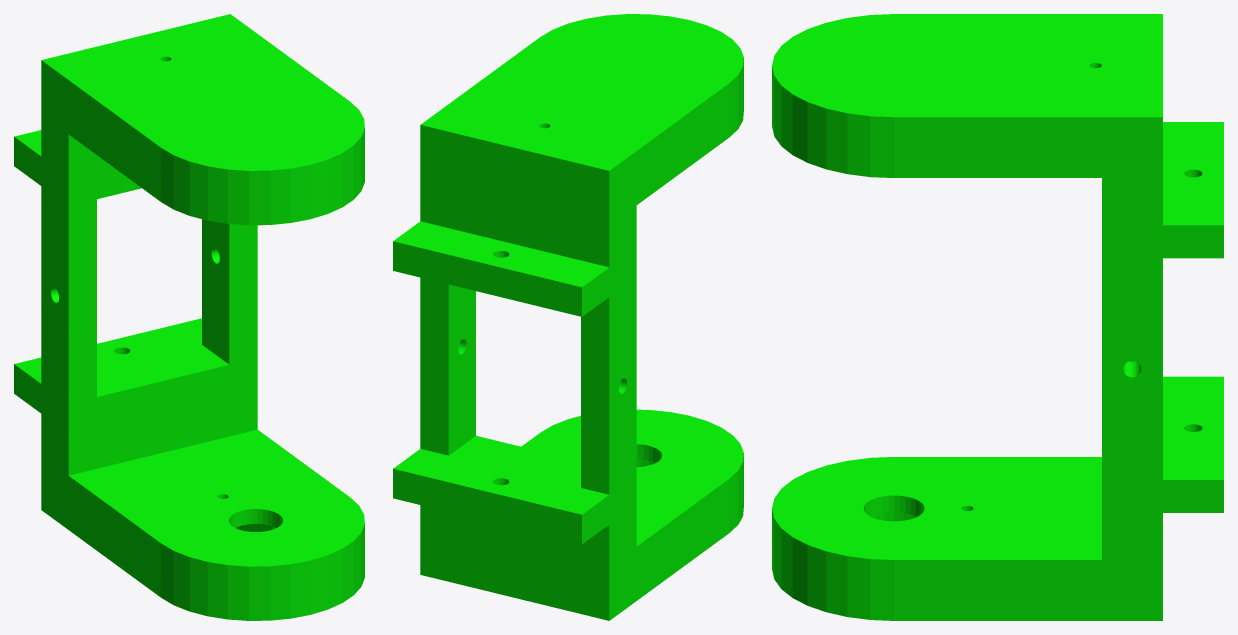
File: brace.glb
3 views of the same model, side by side, from view 1: azimuth 30°, elevation 25°; view 2: azimuth 150°, elevation 25°; view 3: azimuth 270°, elevation 25° (orthographic). The views are drawn at different scales.
Visible parts, largest first — view 1: brace; view 2: brace; view 3: brace.
Boxes of the visible parts, x1=… form: brace: x1=14, y1=14, x2=364, y2=620; brace: x1=393, y1=14, x2=743, y2=620; brace: x1=772, y1=14, x2=1223, y2=620.
Size of the model in its own units: 0.2 by 0.455 by 0.37.
